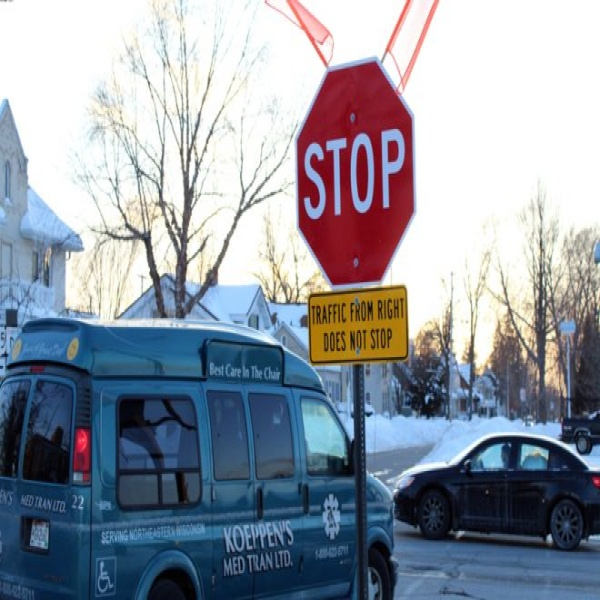stop: (298, 58, 419, 290)
